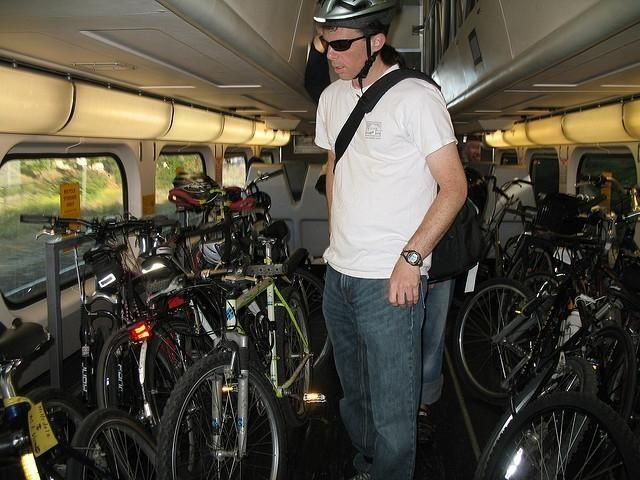bicycle: (158, 245, 306, 474), (20, 214, 154, 410), (455, 244, 637, 340), (256, 218, 326, 428), (484, 391, 640, 480), (2, 404, 156, 478), (0, 320, 94, 441), (137, 272, 191, 430), (100, 284, 158, 422), (240, 170, 284, 220), (227, 224, 254, 273)
